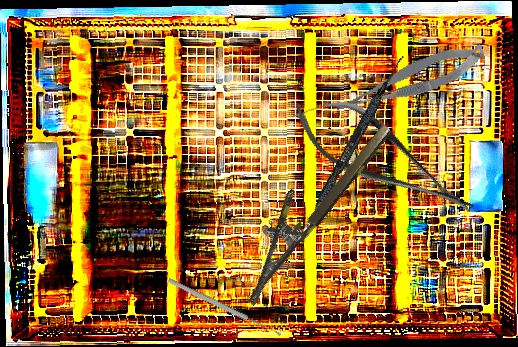Micro Scissor: (280, 77, 487, 239), (329, 40, 490, 118)
Needle Holder: (218, 104, 395, 307)
Spatula Surgical: (289, 51, 406, 255)
Surgical Spoon: (166, 276, 283, 339)
